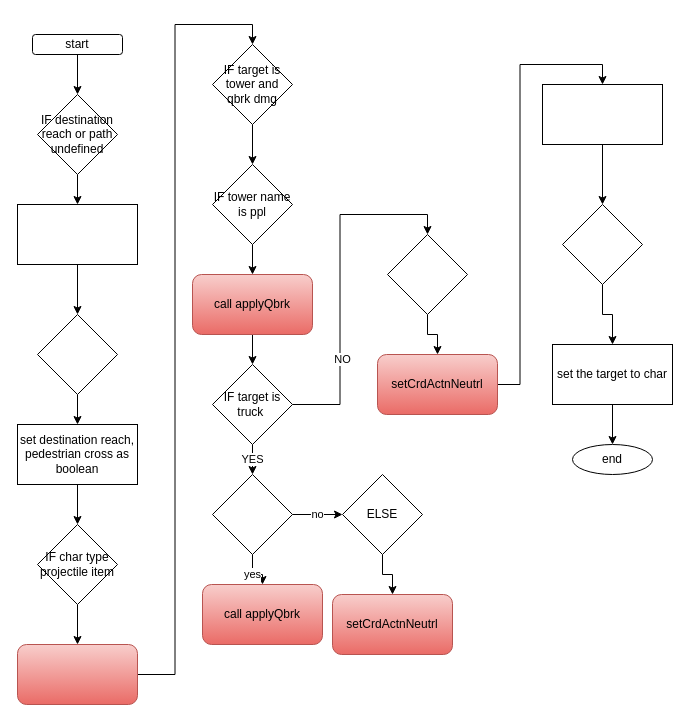
Some shapes in this 690 by 722 pixel diagram are drawn without their labels. Here are the shapes that lost their labels. From the top down, the centre of each, then its label:
At (x=602, y=114): "set previous instruction and remove first data".
At (x=77, y=234): "return".
At (x=602, y=244): "IF path not empty".
At (x=427, y=274): "ELSE IF target is tower".
At (x=77, y=354): "IF path is empty".
At (x=252, y=514): "IF qbrk dmg on truck".
At (x=77, y=674): "call setlifeLine".
